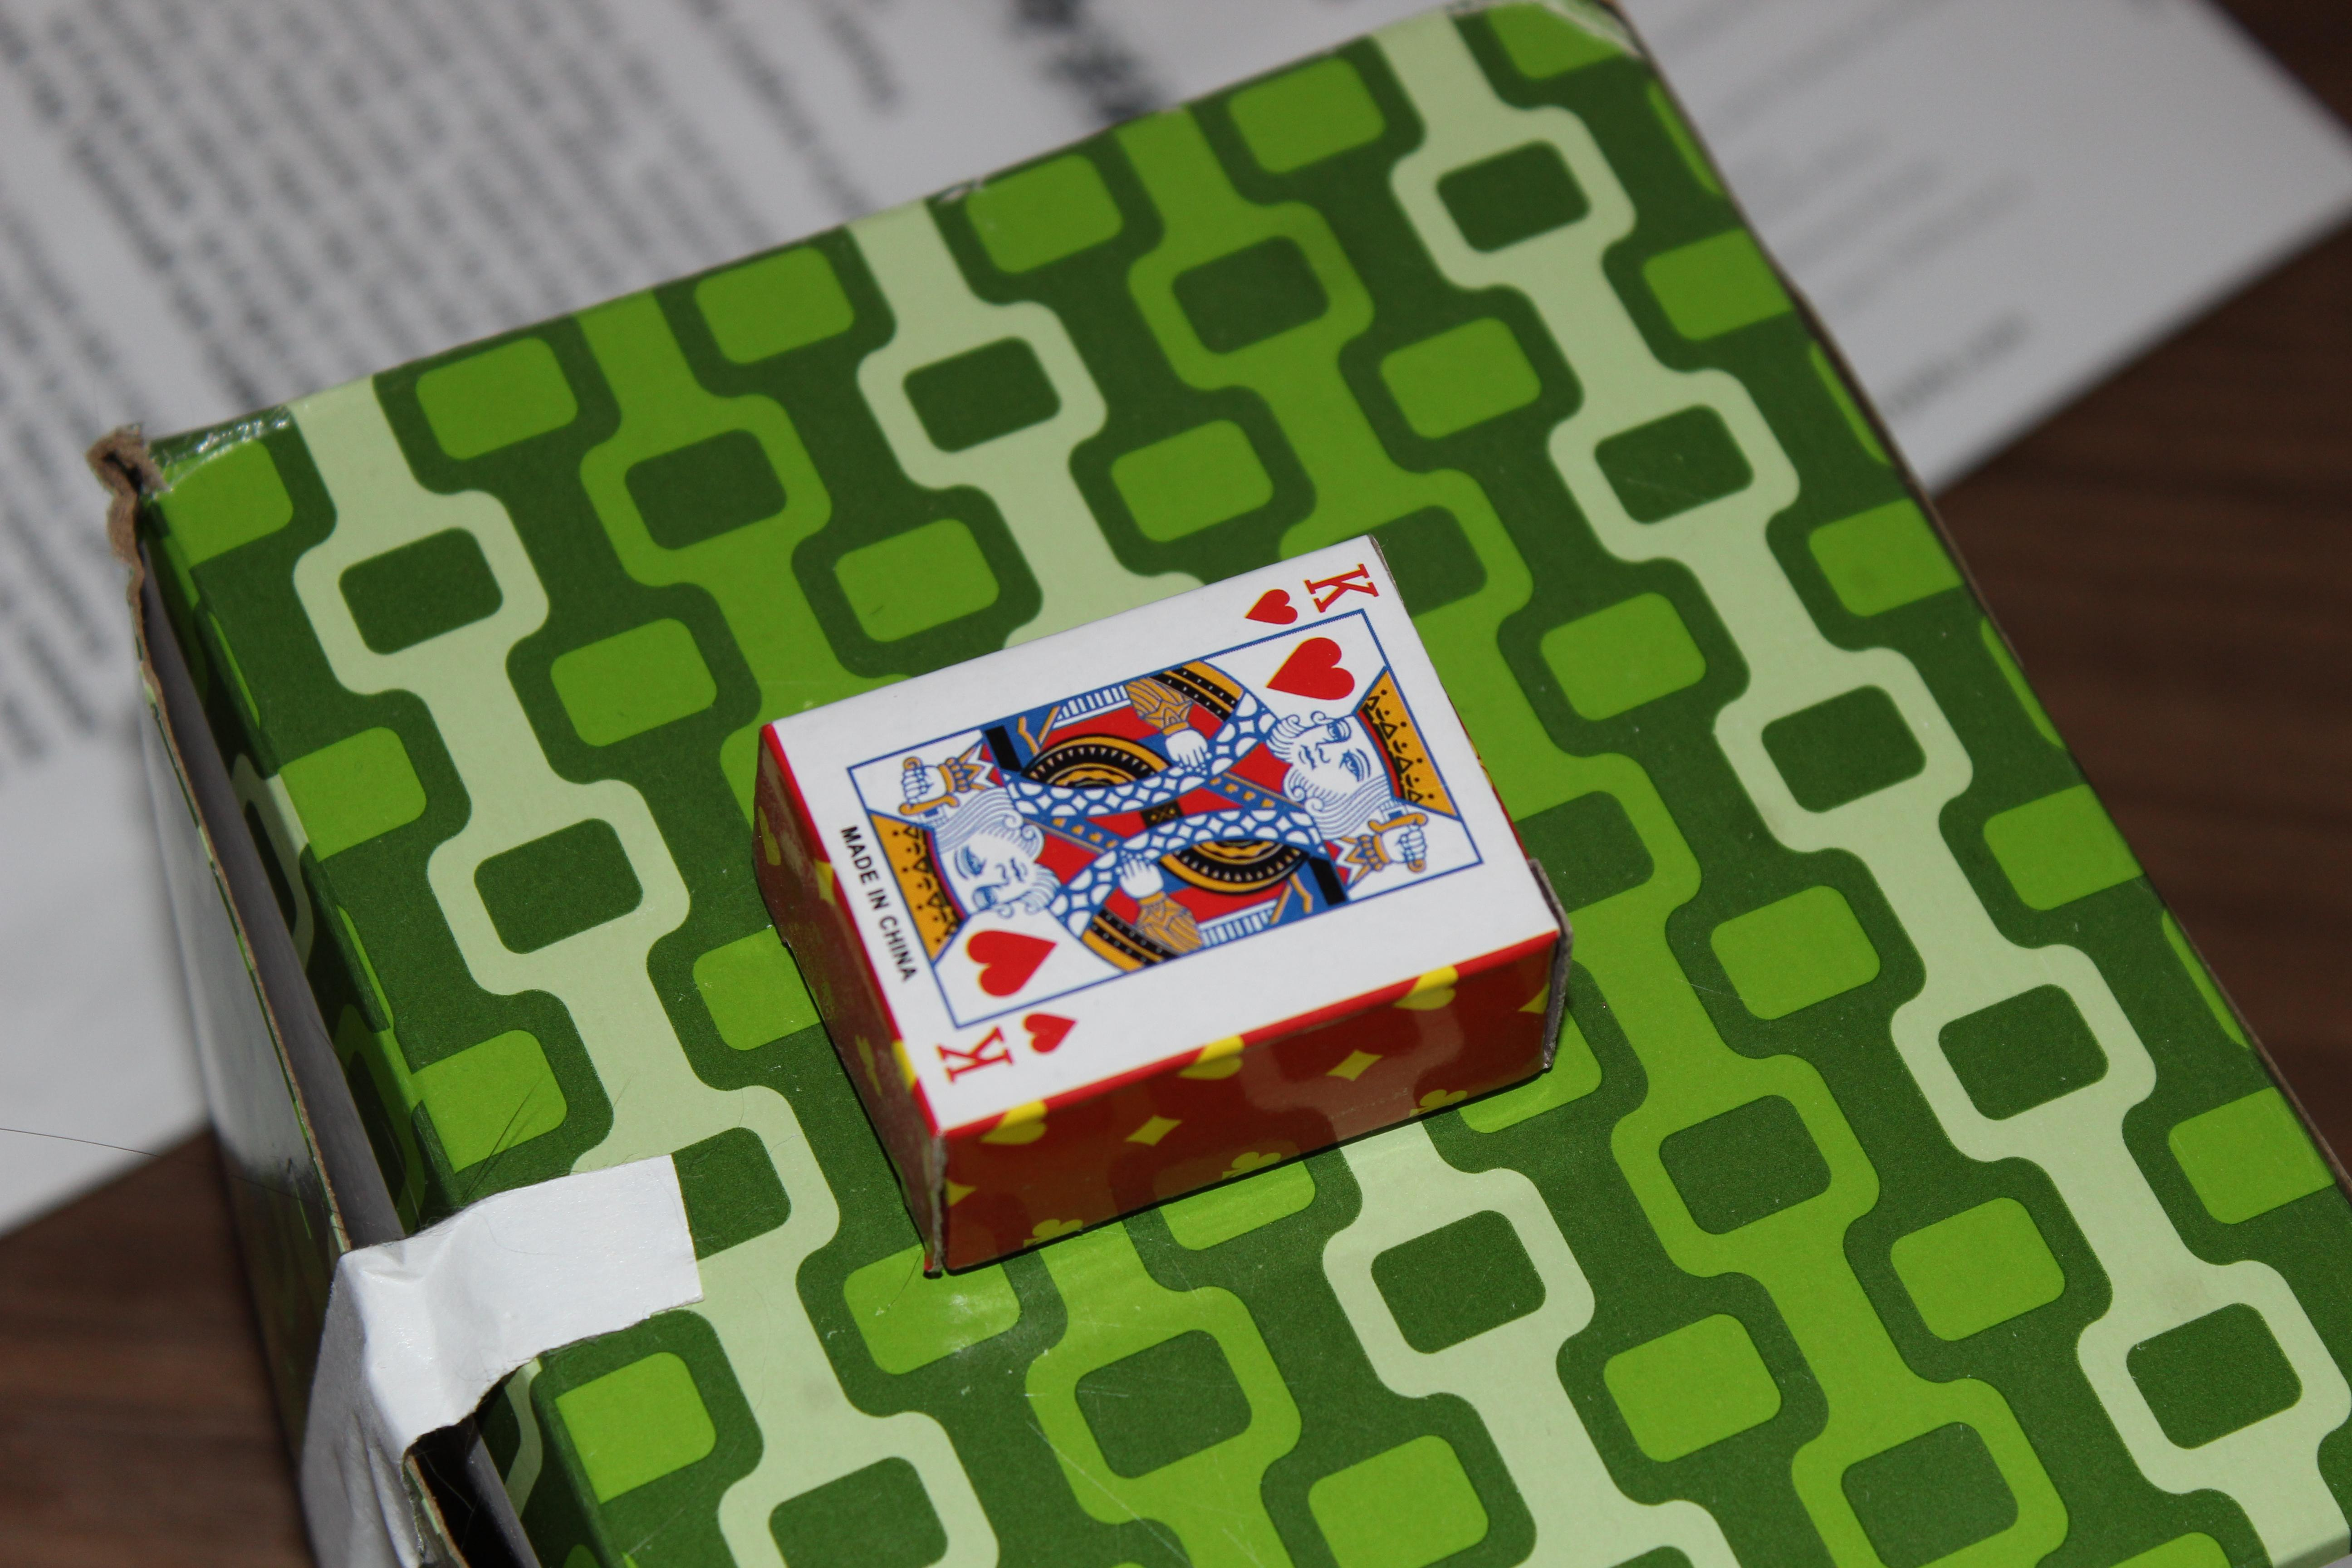miniCards: (718, 509, 1594, 1291)
